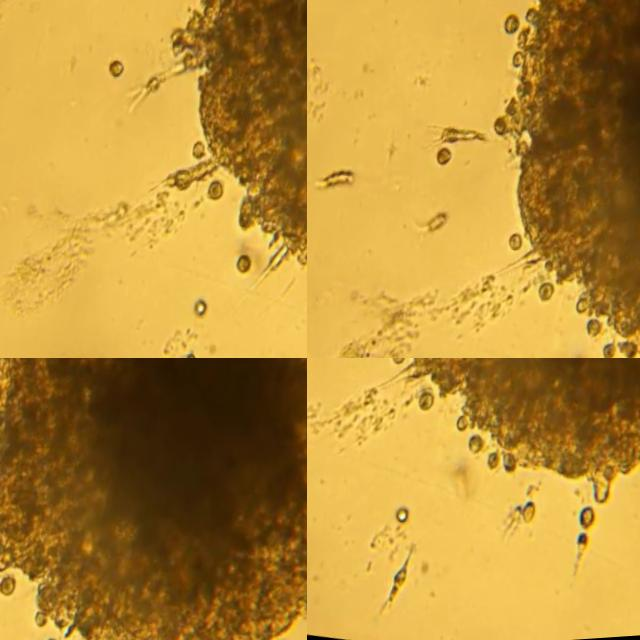cell: (383, 557, 409, 605), (429, 127, 483, 146), (570, 538, 584, 580), (312, 174, 350, 188), (422, 215, 445, 236), (102, 59, 123, 80), (464, 437, 483, 457), (232, 257, 248, 278), (390, 507, 407, 526), (534, 286, 551, 304), (205, 185, 220, 205), (416, 396, 430, 417), (433, 150, 449, 168), (575, 512, 591, 530), (583, 323, 599, 340), (506, 236, 520, 254), (504, 18, 517, 37), (521, 508, 532, 528), (190, 302, 202, 320), (189, 145, 202, 161), (0, 580, 13, 596), (386, 358, 402, 370), (598, 346, 613, 358)
tumor_mass: (365, 358, 640, 511)
